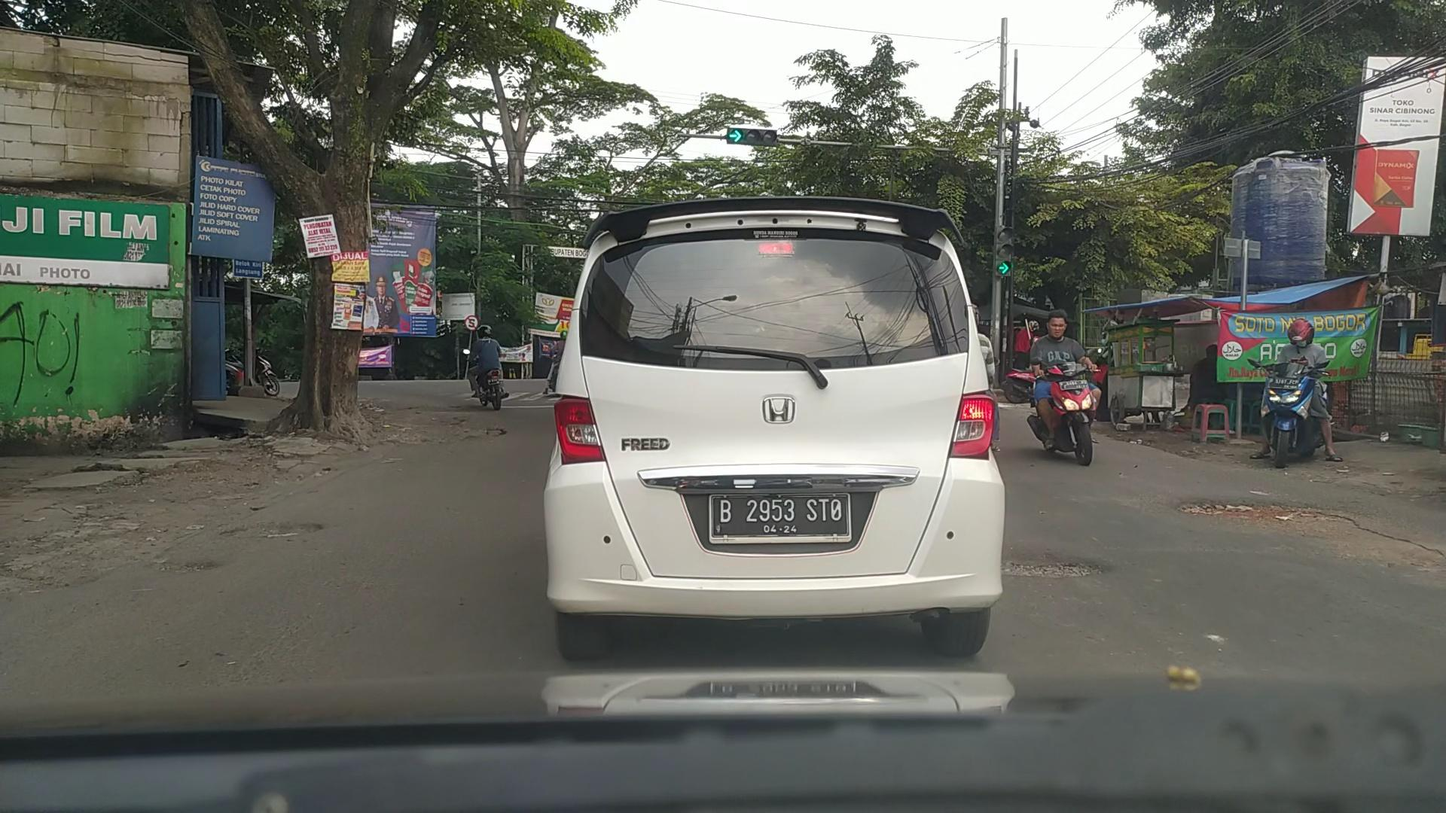pothole: (1172, 499, 1445, 571), (1001, 556, 1107, 580)
